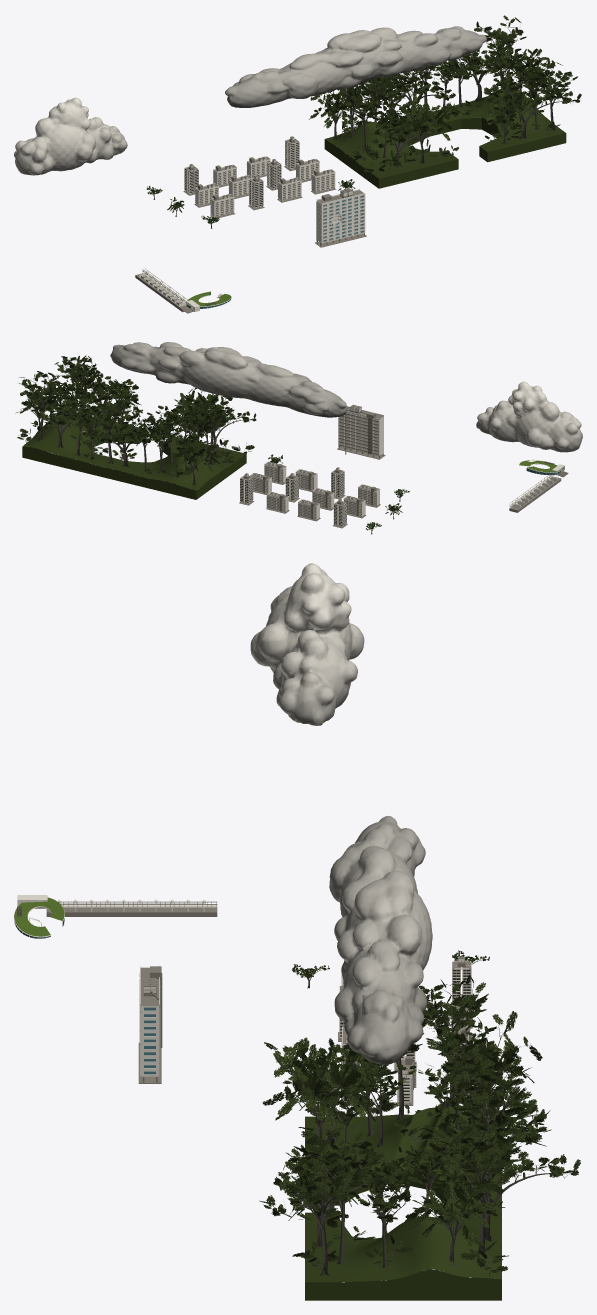
The model's file is water.glb.
The picture shows the model from 3 angles, top to bottom: view 1: azimuth 30°, elevation 25°; view 2: azimuth 150°, elevation 25°; view 3: azimuth 270°, elevation 25°; orthographic projection. The views are drawn at different scales.
Parts seen in each view (by area): view 1: forest-hill, rain-cloud, city-blocks, cumulus, hdb-block, barrage, pump-house; view 2: forest-hill, rain-cloud, city-blocks, cumulus, hdb-block, barrage, pump-house; view 3: forest-hill, rain-cloud, cumulus, hdb-block, city-blocks, barrage, pump-house.
Part boxes in pixels (x1,y1,x2,y2): forest-hill: (309, 15, 581, 188); rain-cloud: (225, 26, 486, 107); city-blocks: (146, 136, 355, 228); cumulus: (14, 97, 127, 175); hdb-block: (315, 189, 366, 247); barrage: (135, 268, 187, 312); pump-house: (182, 291, 231, 313); forest-hill: (15, 355, 256, 499); rain-cloud: (110, 342, 347, 417); city-blocks: (239, 454, 409, 534); cumulus: (476, 381, 582, 452); hdb-block: (337, 406, 385, 459); barrage: (509, 474, 561, 512); pump-house: (519, 459, 568, 477); forest-hill: (259, 974, 580, 1300); rain-cloud: (329, 816, 432, 1064); cumulus: (250, 563, 364, 725); hdb-block: (138, 965, 162, 1083); city-blocks: (291, 950, 489, 1106); barrage: (46, 899, 217, 916); pump-house: (14, 895, 64, 938).
Size of the model in its own units: 5.91 by 1.68 by 2.83.
3 materials, 1 textured.
